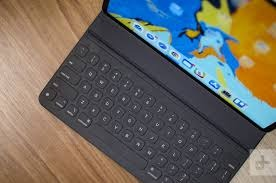keyboard: (18, 41, 248, 183)
